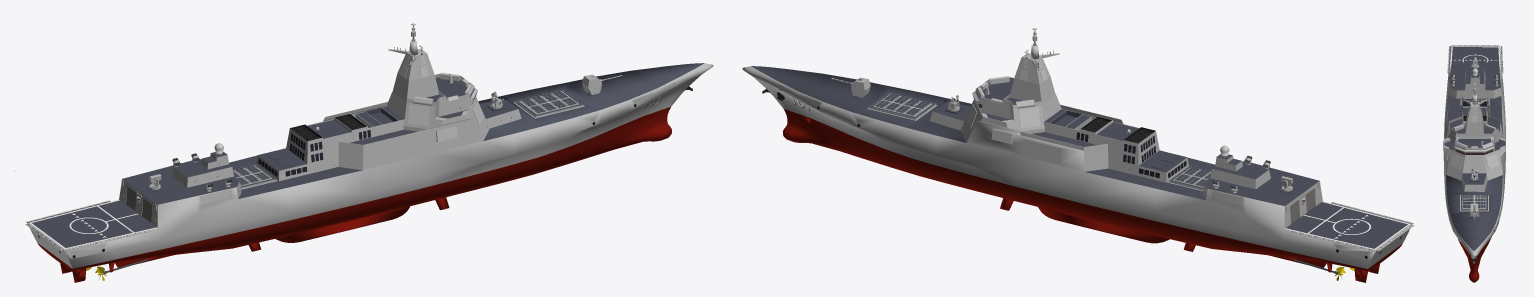
The picture shows the model from 3 angles, left to right: view 1: azimuth 30°, elevation 25°; view 2: azimuth 150°, elevation 25°; view 3: azimuth 270°, elevation 25°; orthographic projection. The views are drawn at different scales.
Visible parts, largest first — view 1: cn-055; view 2: cn-055; view 3: cn-055.
Boxes of the visible parts, x1=… form: cn-055: x1=14, y1=23, x2=713, y2=282; cn-055: x1=742, y1=28, x2=1413, y2=282; cn-055: x1=1443, y1=45, x2=1505, y2=282.
Bounding box in the file's own units: 180 × 45.69 × 26.63.
19 materials, 1 textured.
